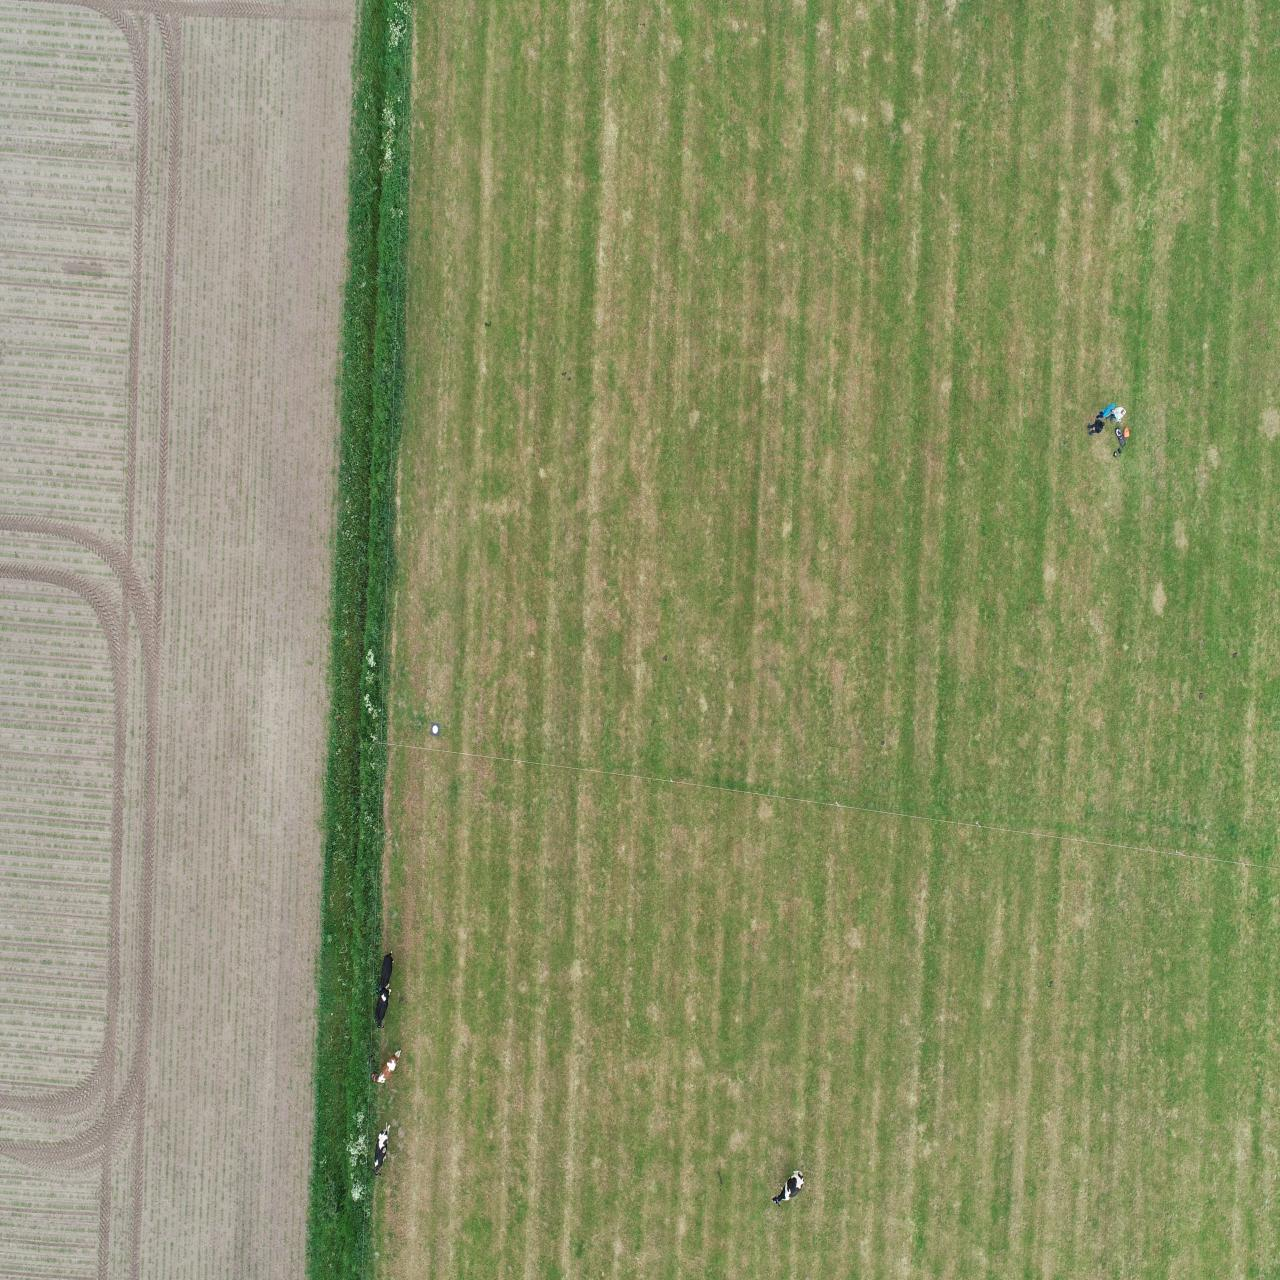cow: (370, 1115, 395, 1180), (370, 1043, 404, 1088), (769, 1166, 805, 1207), (380, 944, 400, 990), (374, 986, 394, 1029)
